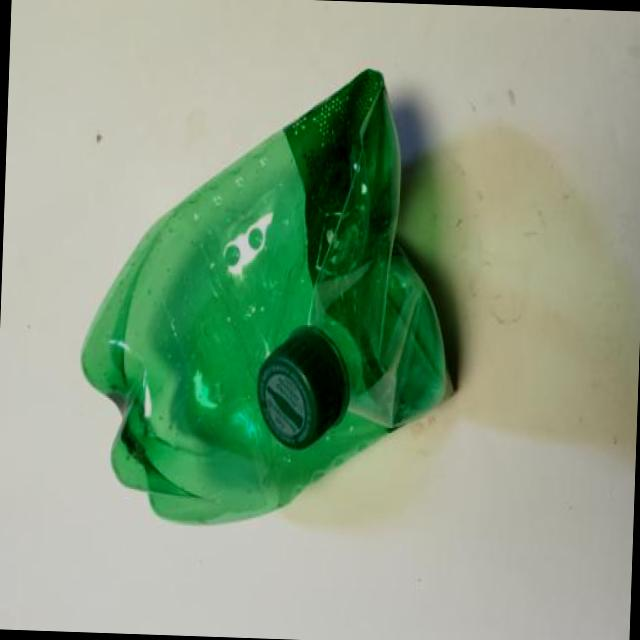Recycle: (75, 56, 467, 534)
